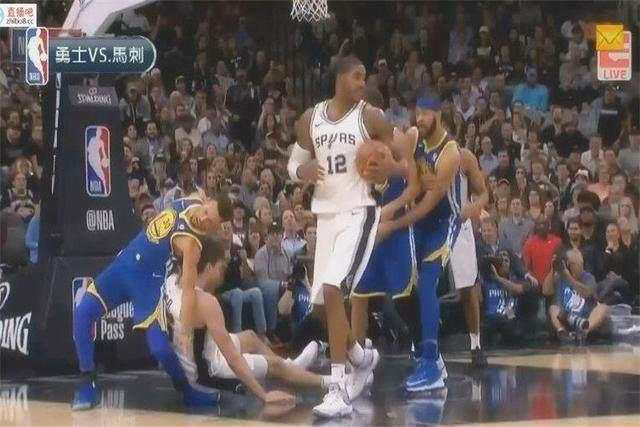10+: (3, 10, 637, 405)
down: (162, 244, 353, 419)
